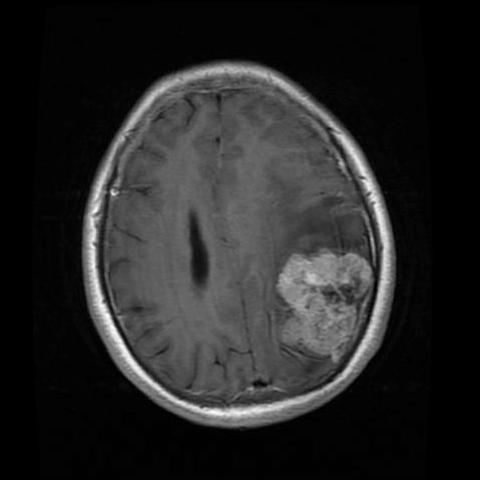Tumour-Pituitary: (262, 244, 378, 377)
